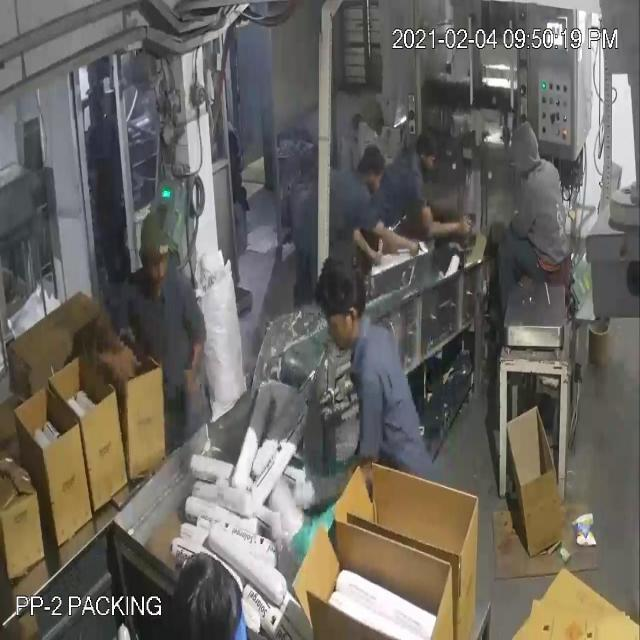No_Gloves: (39, 52, 446, 367)
